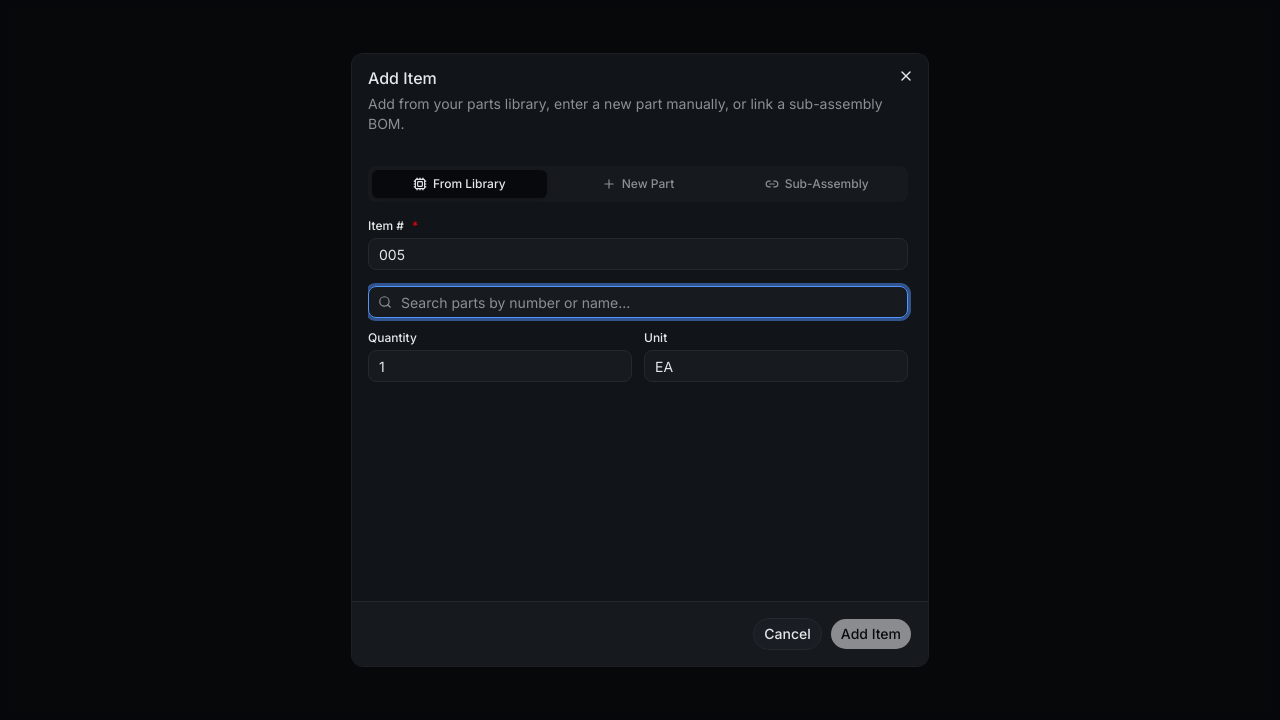
it: AddItemDialog — sub-assembly mode › offers every BOM except the one being edited
Click the button "Sub-Assembly".
click(817, 184)  # box left=729, top=170, right=904, bottom=198
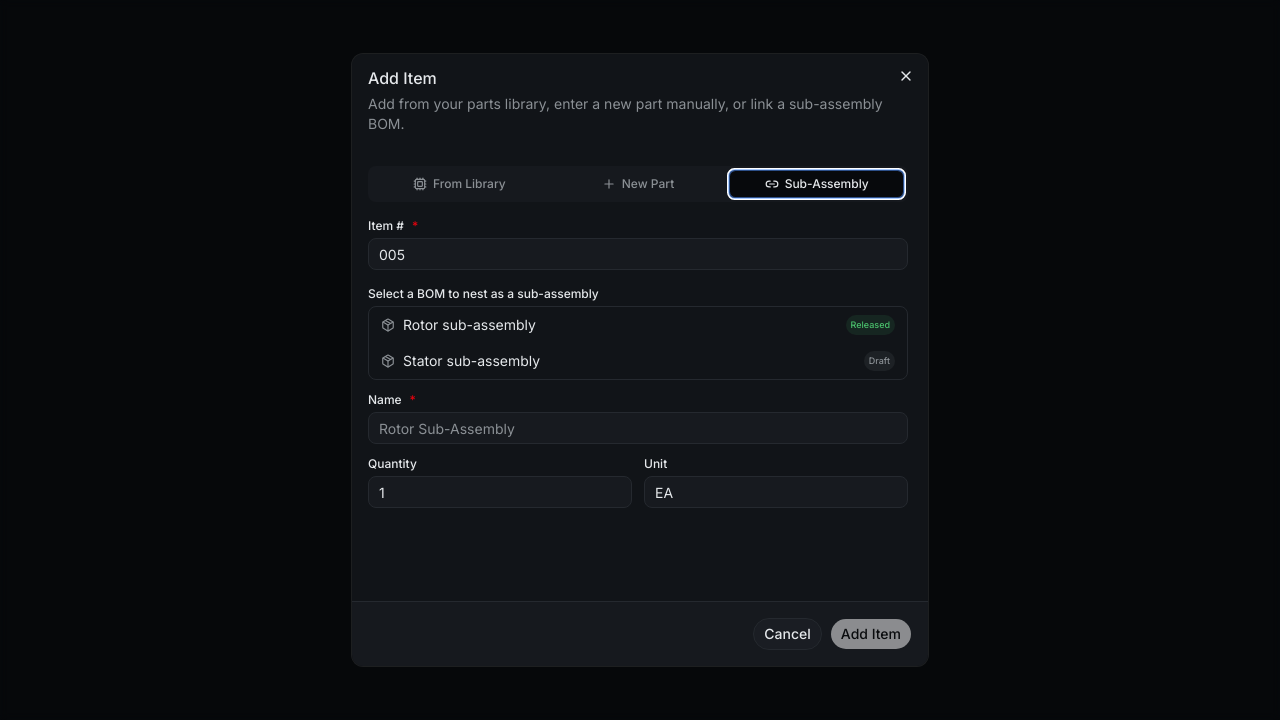
Expected: the button "Rotor sub-assembly Released" is shown, left=369, top=307, right=907, bottom=343
Expected: the button "Stator sub-assembly Draft" is shown, left=369, top=343, right=907, bottom=379
